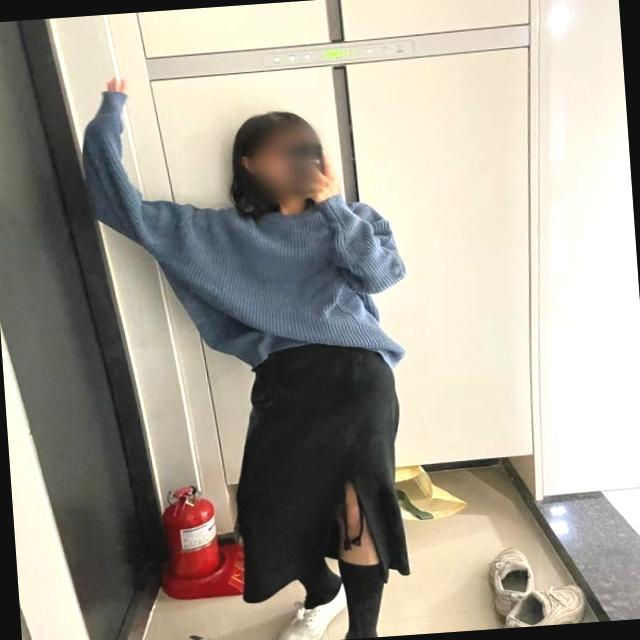skirt: (225, 336, 412, 612)
sweater: (72, 69, 408, 388)
